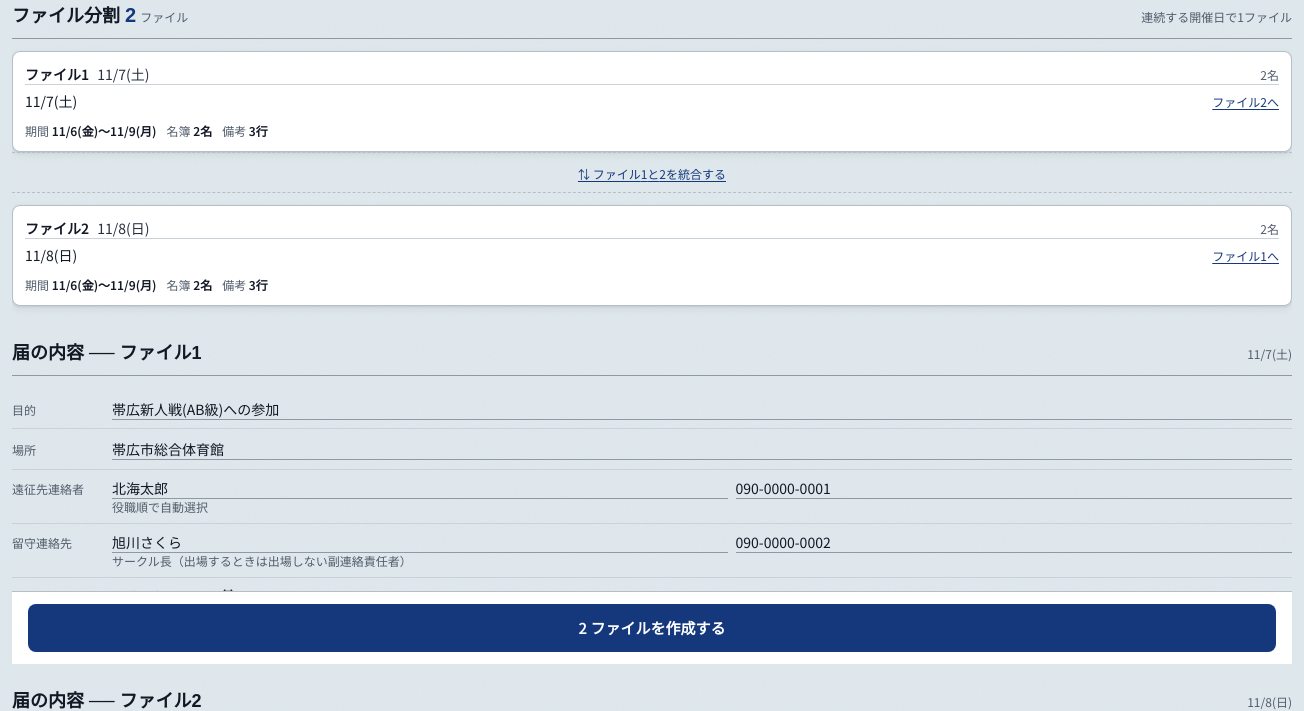
Test case: final レビューの指摘（再計算中の作成・連絡先の dirty 分離） › ★遠征先連絡者だけ直しても、留守連絡先は再計算結果で更新される
Replace the text in the field named "ファイル1の遠征先連絡者の氏名" with "手で直した遠征先". click: (420, 488)
box: [112,478,728,499]
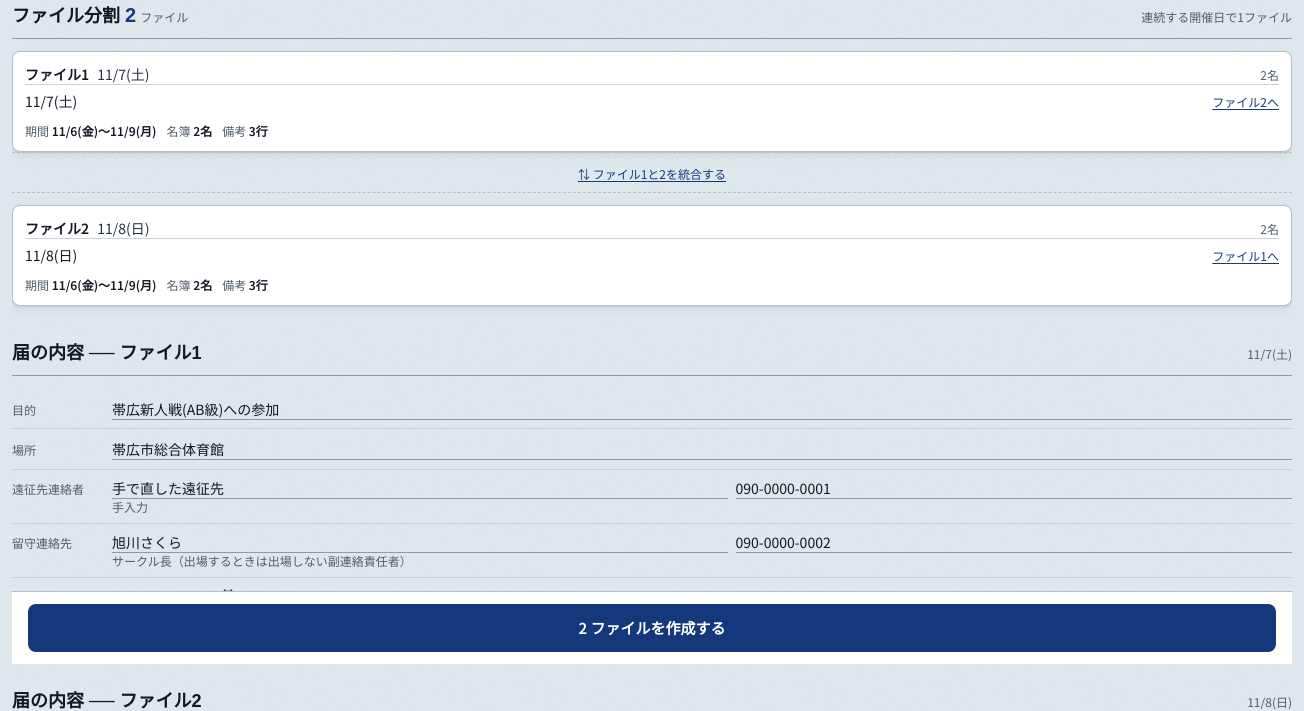
Click the button "⇅ ファイル1と2を統合する". click: (652, 174)
box: [578,166,726,182]
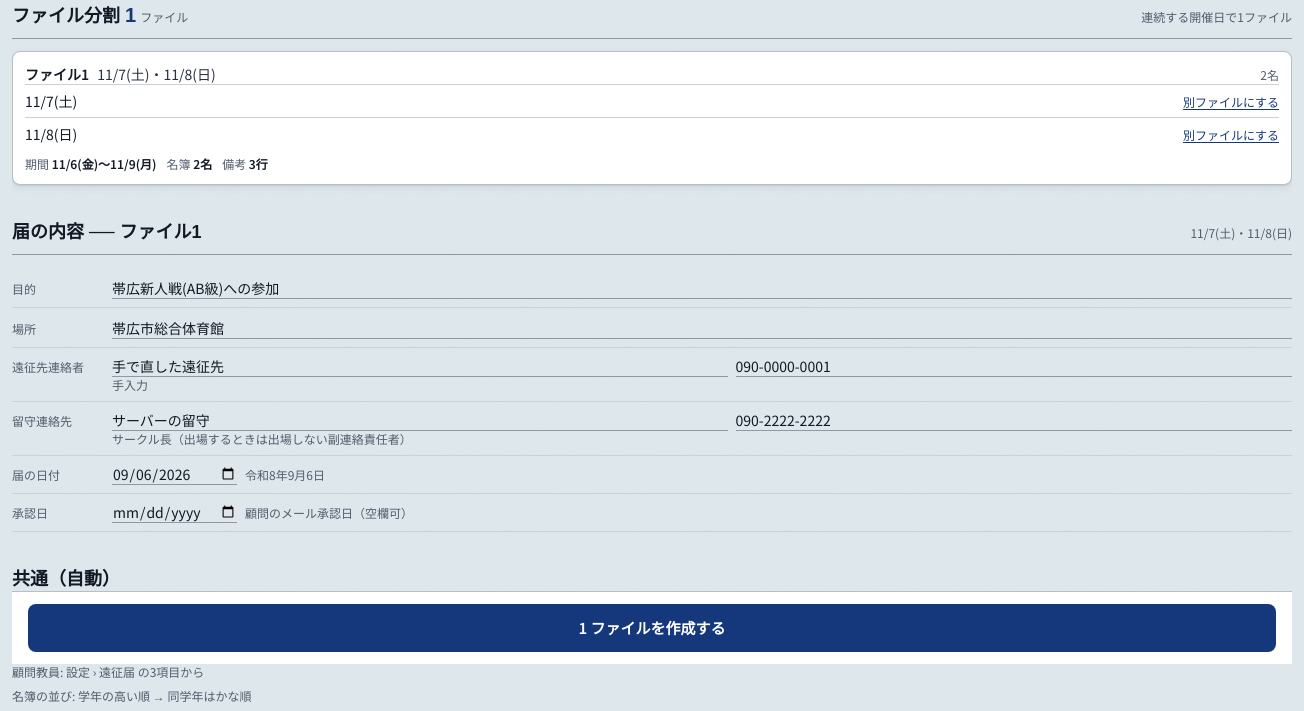
Check: the field named "ファイル1の留守連絡先の氏名" holds "サーバーの留守", box [112,410,728,431]
